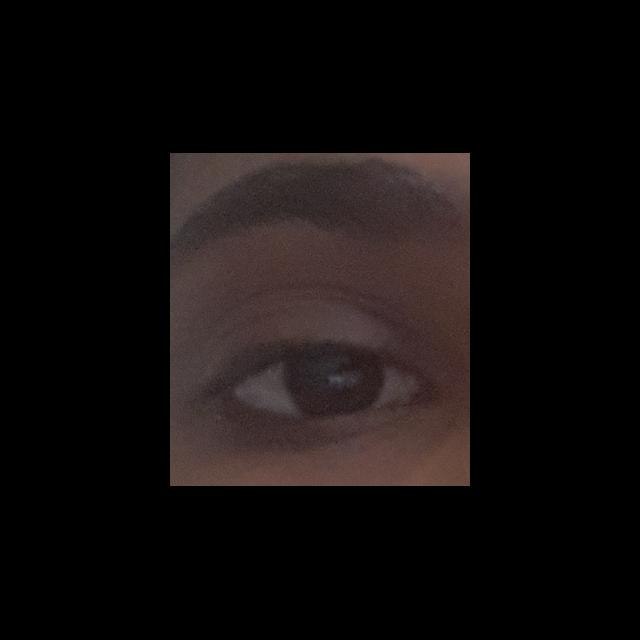eye: (236, 353, 418, 420)
iris: (284, 355, 383, 417)
